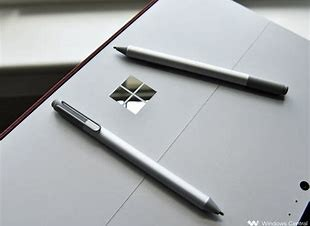pen: (49, 98, 228, 218), (108, 44, 291, 95)
